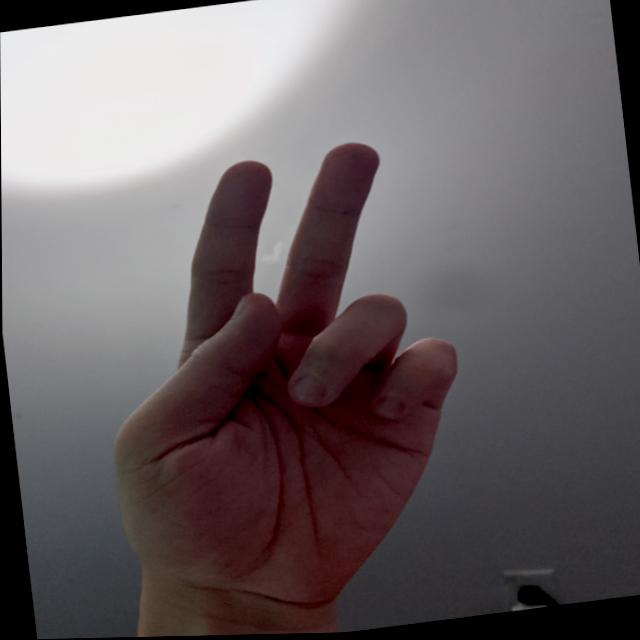K: (66, 124, 498, 638)
